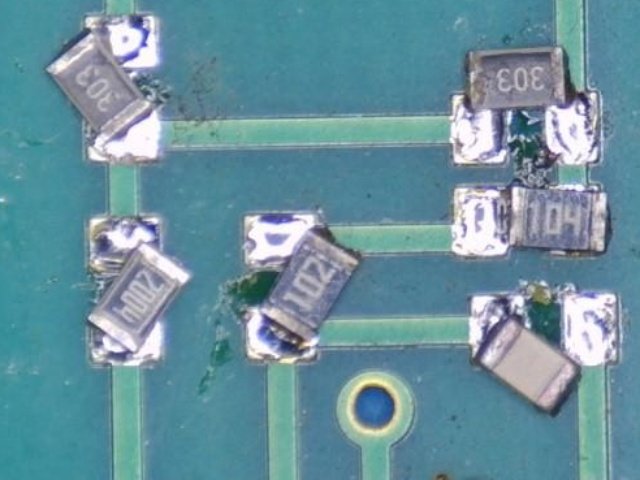pcb_defect: (469, 290, 619, 416), (243, 212, 364, 362), (451, 46, 600, 165), (43, 14, 160, 162), (86, 215, 192, 365), (453, 184, 608, 257), (350, 474, 527, 480)
